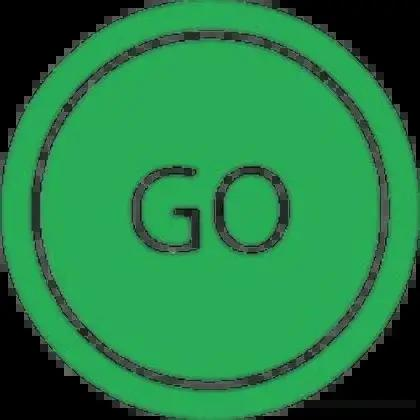Go: (2, 0, 418, 419), (0, 152, 7, 272)
